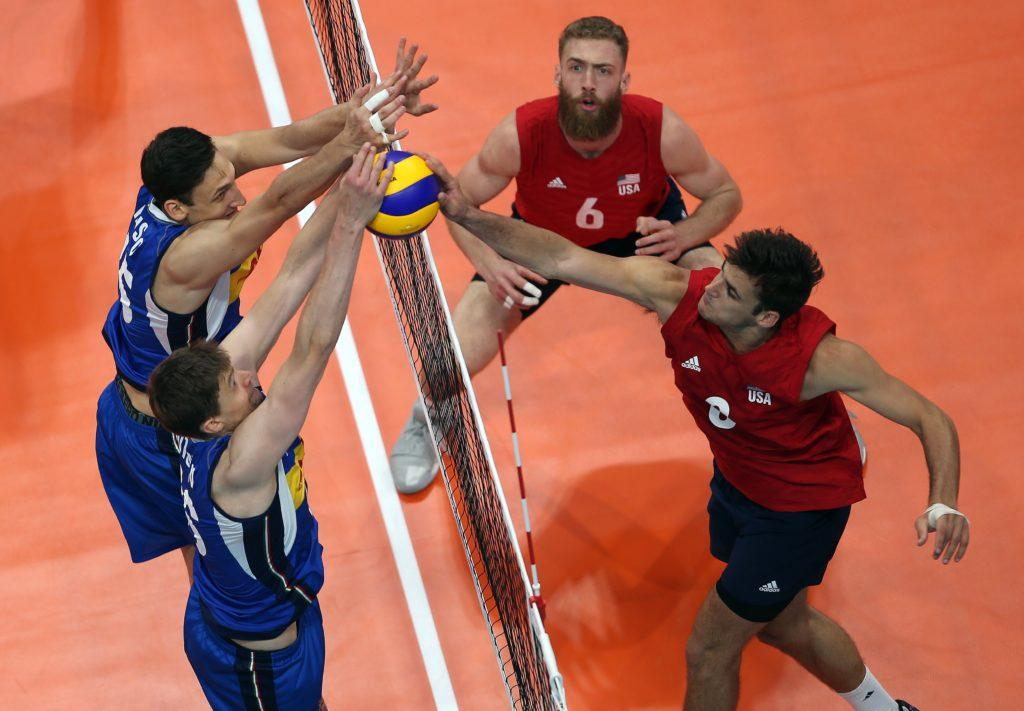ballon_volley: (357, 150, 441, 240)
